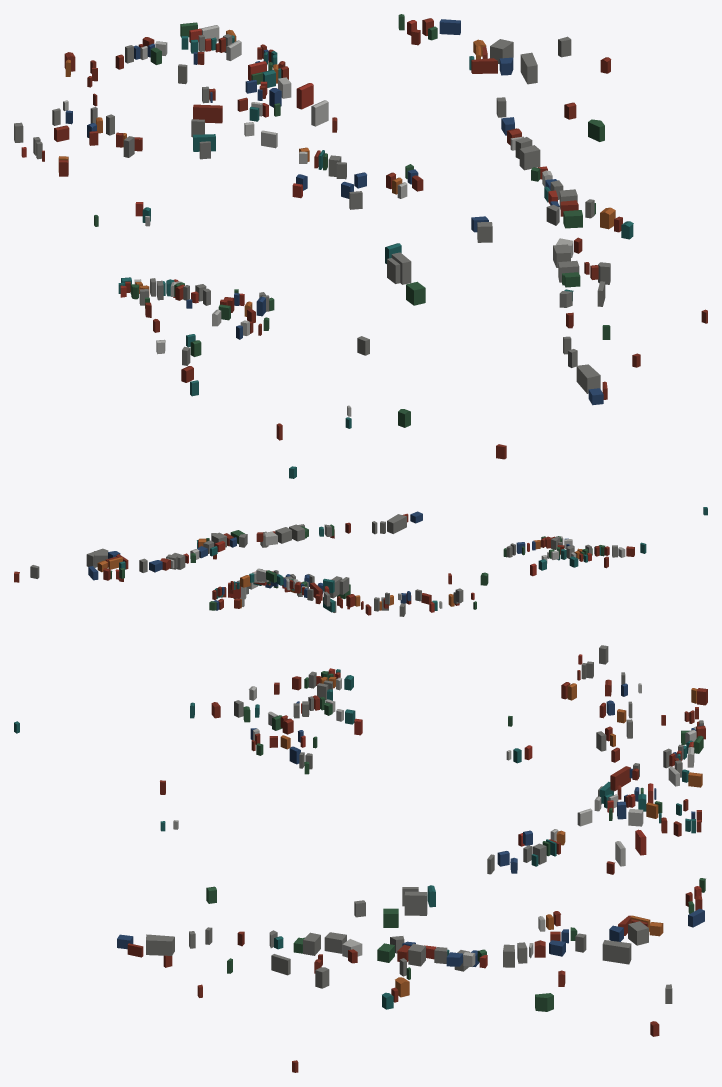
Rendered from near-15-27365-14862.fc5a61d7.glb.
The picture shows the model from 3 angles, top to bottom: view 1: azimuth 30°, elevation 25°; view 2: azimuth 150°, elevation 25°; view 3: azimuth 270°, elevation 25°; orthographic projection. The views are drawn at different scales.
Bounding box in the file's own units: 1157 × 382 × 1117.
